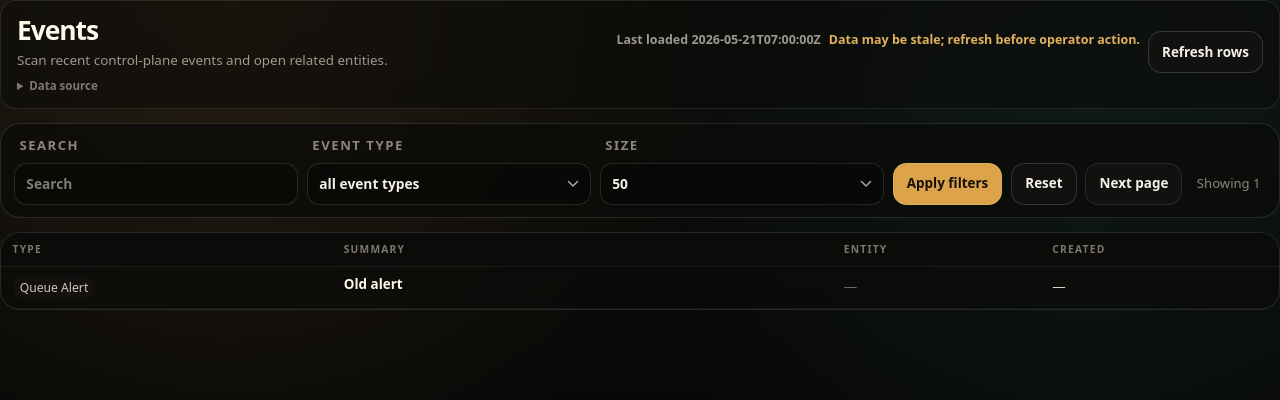
Test case: refreshes event rows explicitly from the V2 page
Expected: the text "Old alert" is shown, [344,275,403,293]
Click the button "Refresh rows": (1205, 52) [1148,31,1263,73]
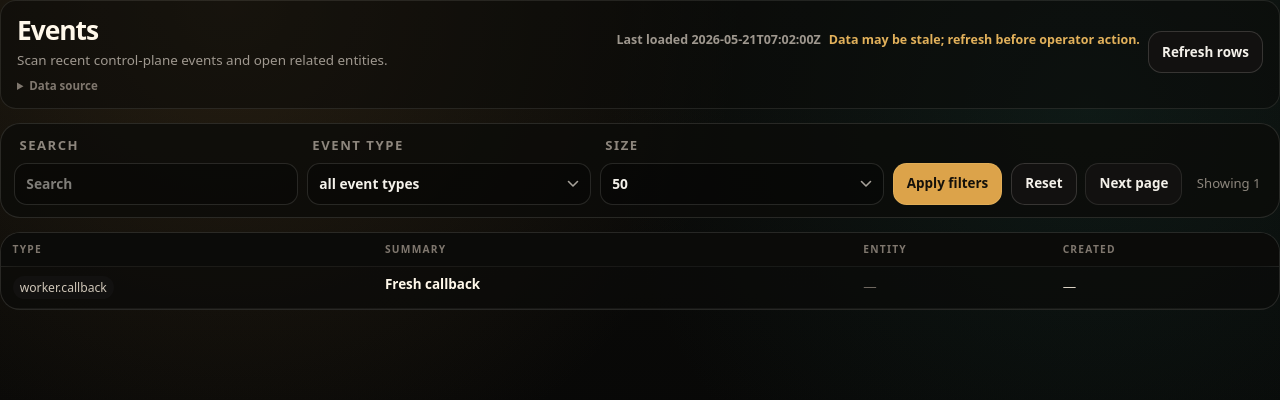
Expected: the text "Fresh callback" is shown, [385,275,480,293]
Expected: the text "Last loaded 2026-05-21T07:02:00Z" is shown, [616,31,821,48]
